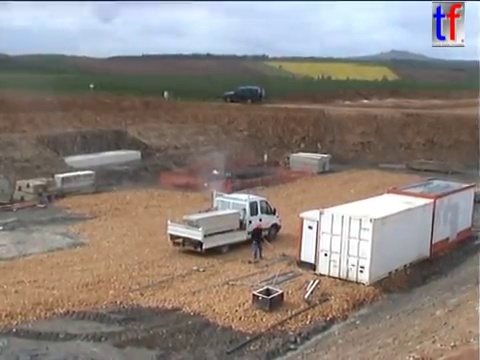truck: (164, 189, 284, 256)
worker: (249, 221, 270, 260)
